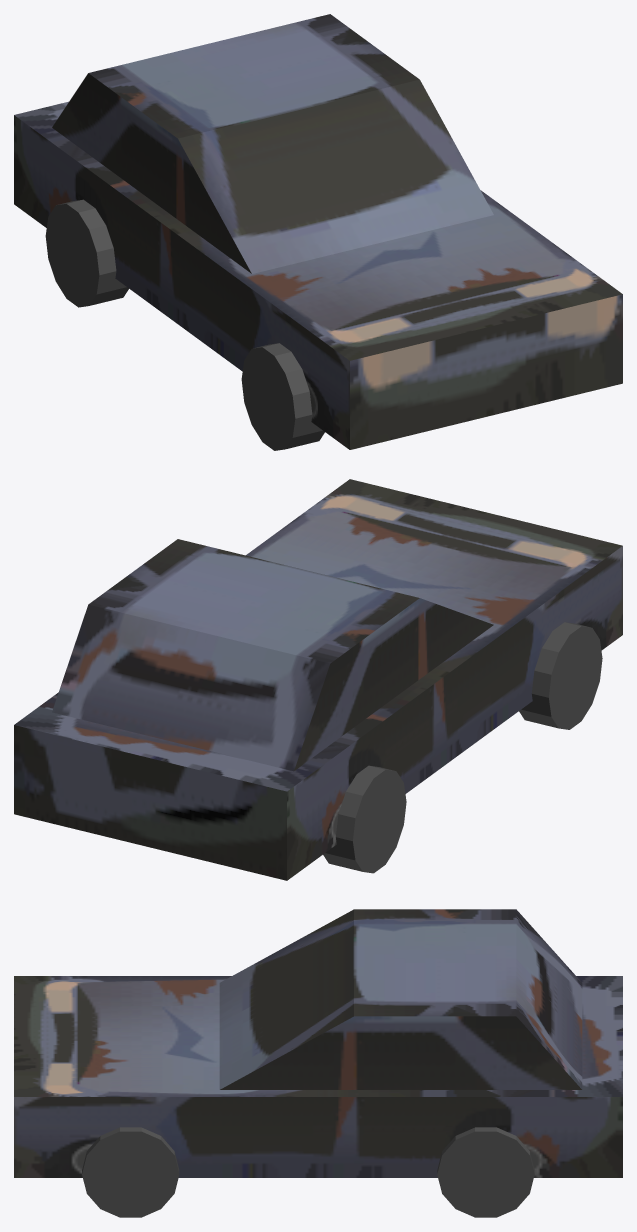
Rendered from Building_AncientRustedCar__B.obj.
The picture shows the model from 3 angles, top to bottom: view 1: azimuth 30°, elevation 25°; view 2: azimuth 150°, elevation 25°; view 3: azimuth 270°, elevation 25°; orthographic projection. The views are drawn at different scales.
Parts seen in each view (by area): view 1: Body; view 2: Body; view 3: Body.
Part boxes in pixels (x1=…): Body: x1=14, y1=14, x2=622, y2=450; Body: x1=14, y1=479, x2=622, y2=880; Body: x1=14, y1=909, x2=622, y2=1217.
Bounding box in the file's own units: 1.93 × 1.29 × 3.75.
1 material, 1 textured.
